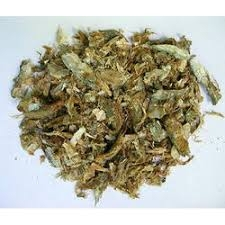kitchen_waste: (8, 22, 223, 201)
